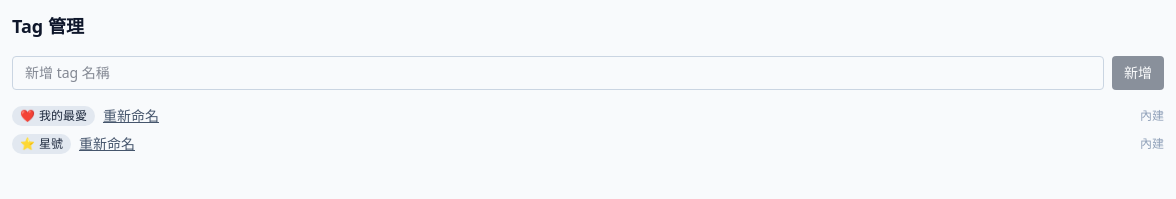
TagManager › deletes a user tag
Check: the text "我的最愛" is shown, box x1=39 y1=108 x2=87 y2=124
In the field with placeholder "新增 tag 名稱": (558, 73) x1=12 y1=56 x2=1104 y2=90, type "Temp"
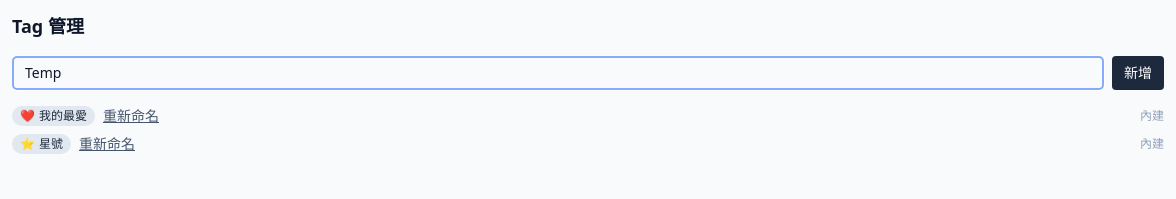
Click the button "新增": click(1138, 73) x1=1112 y1=56 x2=1164 y2=90
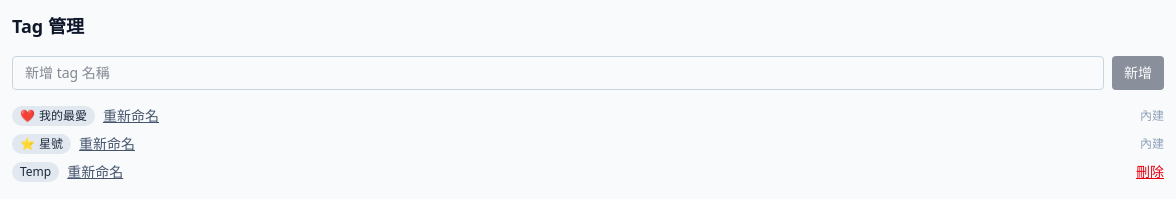
Check: the text "Temp" is shown, box x1=20 y1=164 x2=51 y2=180
Click the button with aria-label "刪除 Temp": click(1150, 172) x1=1136 y1=162 x2=1164 y2=182
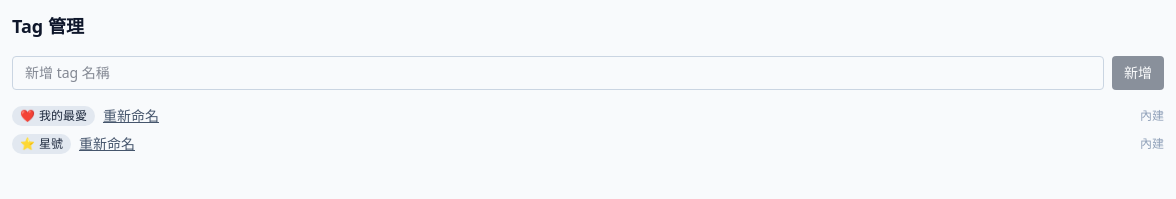
Check: the text "Temp" is gone
